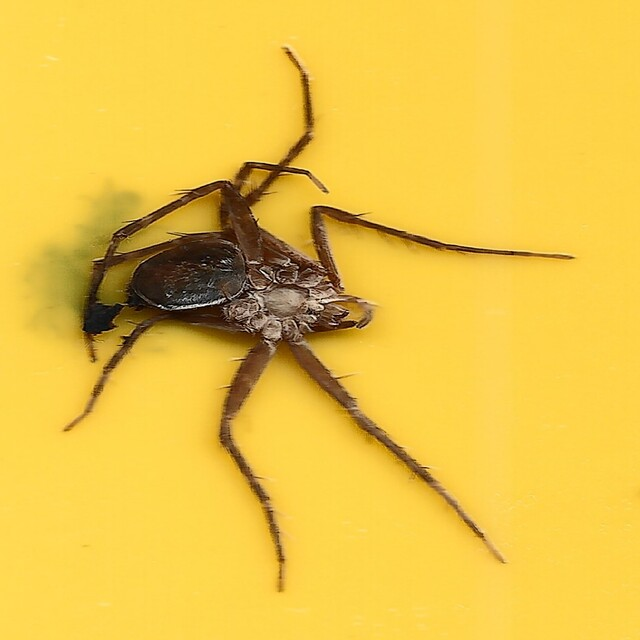Araneae: (68, 48, 572, 592)
